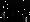person: (1, 6, 8, 22), (11, 9, 17, 21), (21, 11, 27, 22)
